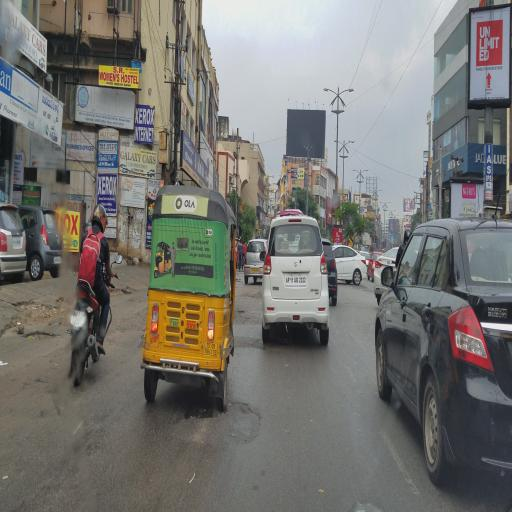street_light_0: (316, 78, 338, 101), (335, 82, 356, 106), (340, 136, 359, 154), (327, 134, 346, 152), (349, 161, 362, 177), (358, 164, 370, 180)
